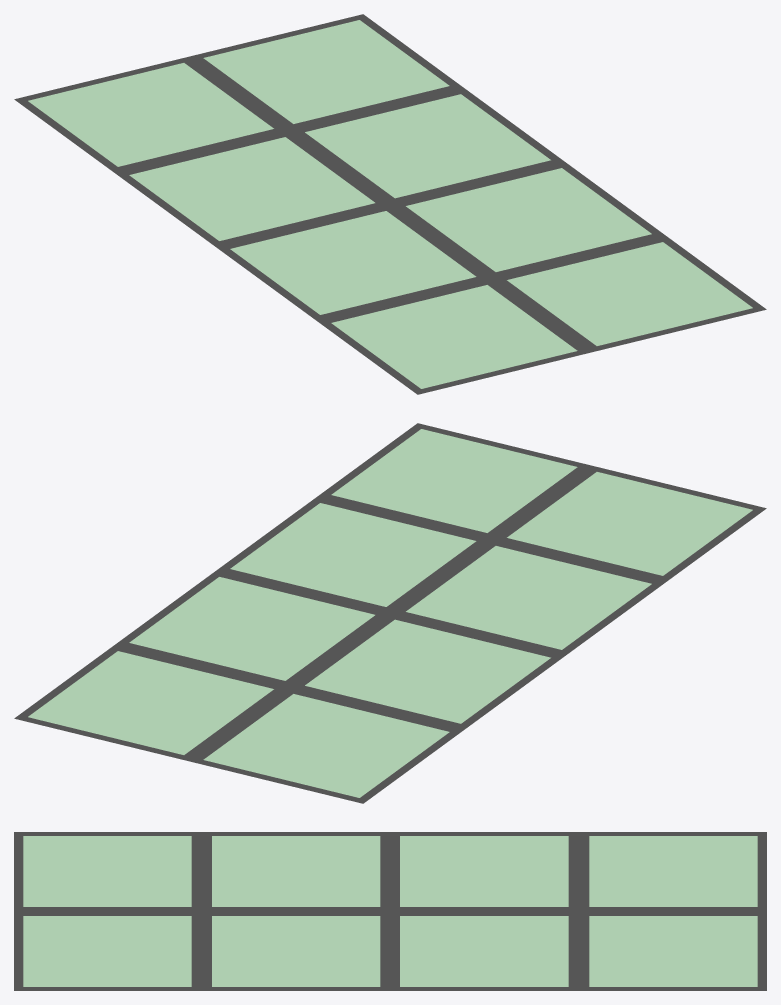
Rendered from 3D_Sol.fbx.
The picture shows the model from 3 angles, top to bottom: view 1: azimuth 30°, elevation 25°; view 2: azimuth 150°, elevation 25°; view 3: azimuth 270°, elevation 25°; orthographic projection. The views are drawn at different scales.
Visible parts, largest first — view 1: Plane.008; view 2: Plane.008; view 3: Plane.008.
Part boxes in pixels (x1=…): Plane.008: x1=14, y1=14, x2=766, y2=394; Plane.008: x1=14, y1=423, x2=766, y2=803; Plane.008: x1=14, y1=832, x2=766, y2=990.
Bounding box in the file's own units: 4.02 × 0 × 8.05.
